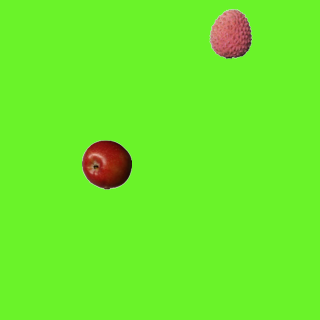Apple Braeburn: (81, 139, 131, 189)
Lychee: (205, 8, 255, 58)
